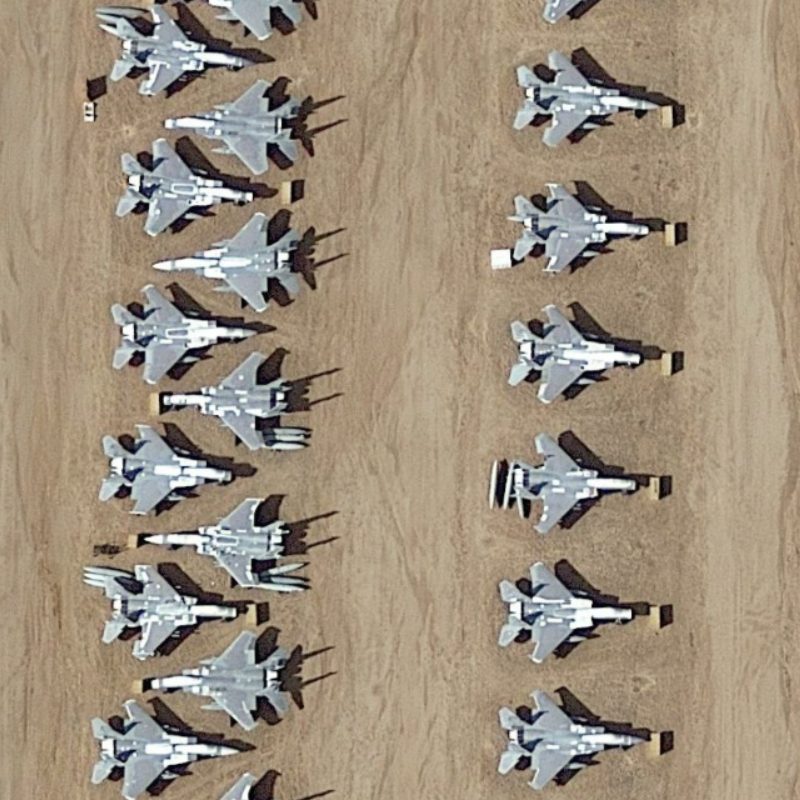A13: (149, 211, 338, 318), (143, 616, 301, 737), (504, 42, 669, 157), (80, 689, 248, 800), (148, 344, 309, 459), (163, 72, 327, 181), (504, 294, 649, 413), (489, 682, 643, 794), (490, 553, 641, 666), (104, 280, 265, 380), (509, 176, 658, 283), (107, 134, 259, 238), (509, 422, 644, 538), (97, 5, 253, 104), (91, 422, 248, 519), (142, 500, 307, 589), (88, 565, 243, 659)
